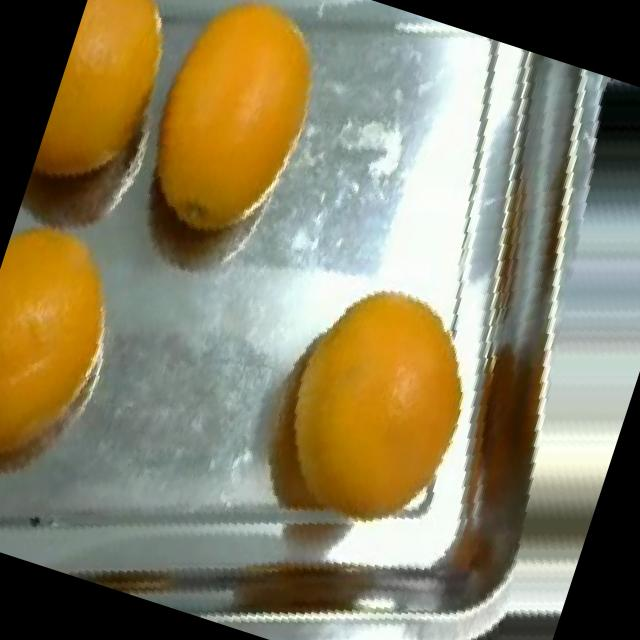Fruit: (590, 77, 640, 166)
